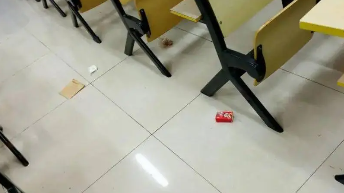garbage: (52, 77, 89, 102), (213, 111, 239, 125), (158, 33, 174, 50), (87, 64, 101, 78)
